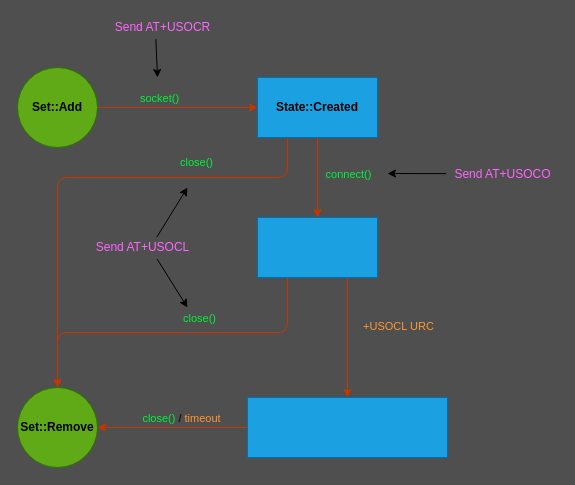
The diagram is 575 pixels wide and 485 high, and some of its shapes have lost their labels. The shapes that lost their labels are listed below. From the top down, each one's centre as x and y in pixels, then its label:
At point 317,247: "State::Connected".
At point 347,427: "State::ShutdownForWrite".
